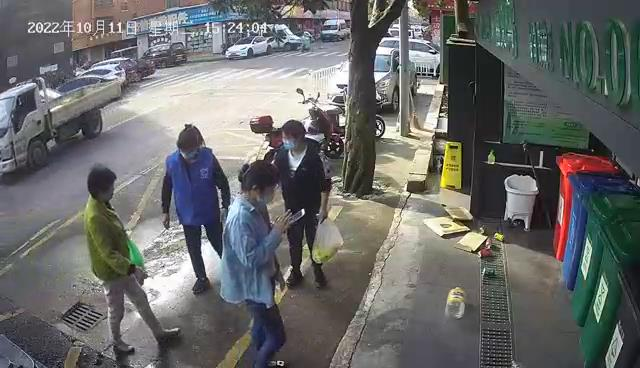garbage-bag: (311, 216, 345, 265)
lvzhipin: (481, 266, 496, 277), (478, 247, 492, 258), (493, 232, 505, 241), (486, 239, 493, 249)
person: (83, 162, 184, 354), (272, 120, 332, 289)
suliaozhipin: (444, 285, 466, 320)
worker: (217, 159, 305, 368), (161, 123, 232, 293)
zhizhipin: (421, 214, 471, 237), (453, 230, 488, 253), (443, 205, 473, 220)
